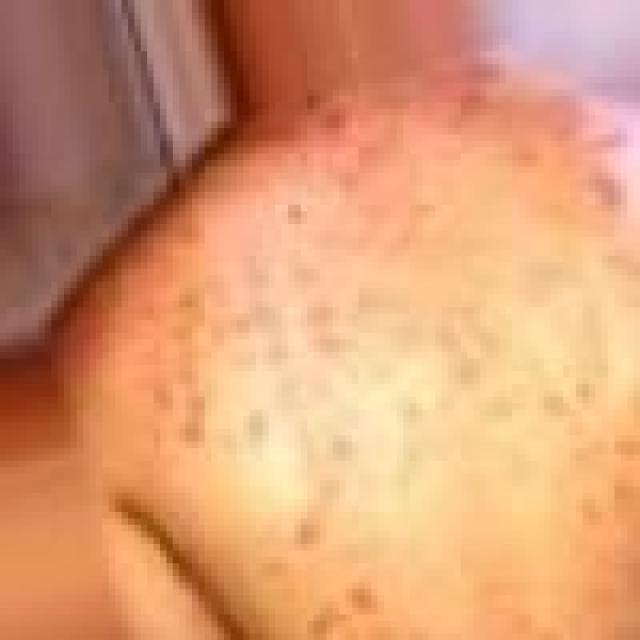acne: (290, 166, 568, 410), (226, 474, 404, 640), (151, 268, 302, 442), (314, 44, 528, 154), (546, 114, 634, 214)
